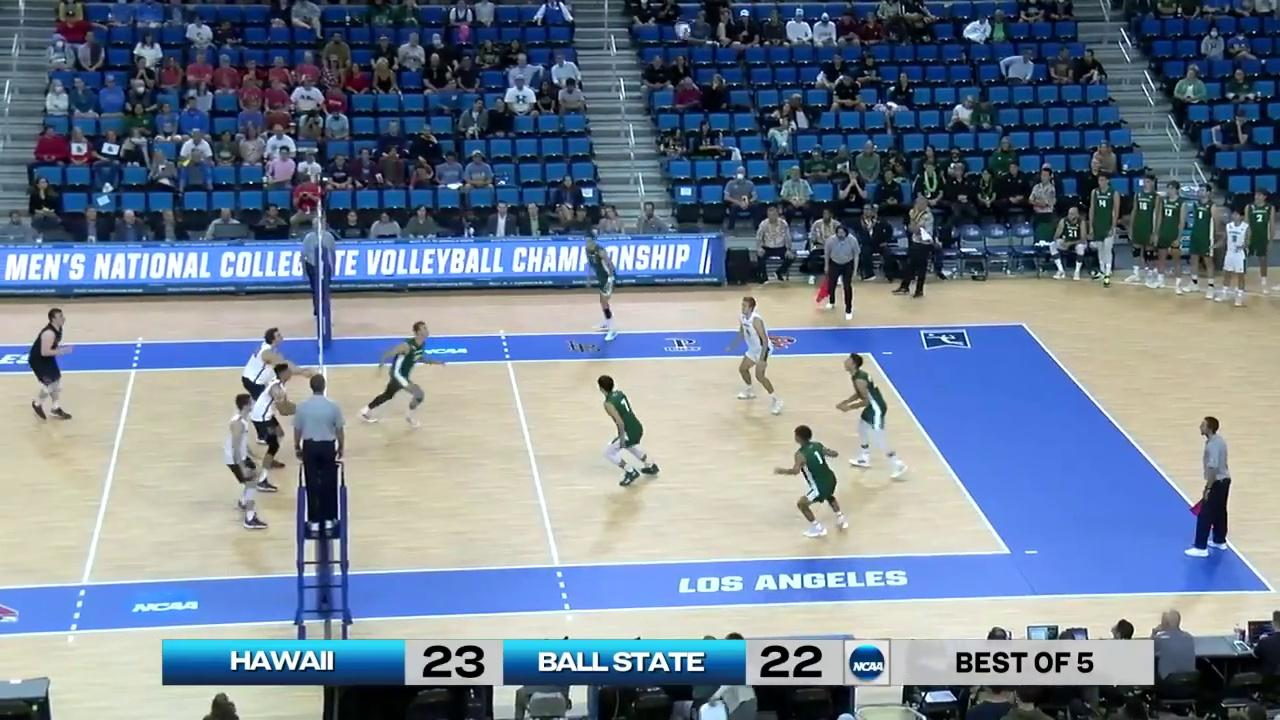player: (361, 321, 436, 431), (780, 424, 852, 537), (842, 355, 908, 477), (223, 391, 276, 532), (596, 375, 656, 485), (248, 363, 298, 489), (732, 297, 780, 411), (241, 327, 288, 435), (28, 309, 70, 421), (582, 234, 618, 341)
refree: (295, 371, 345, 531), (1185, 417, 1229, 557), (304, 219, 336, 328), (824, 226, 859, 321)
